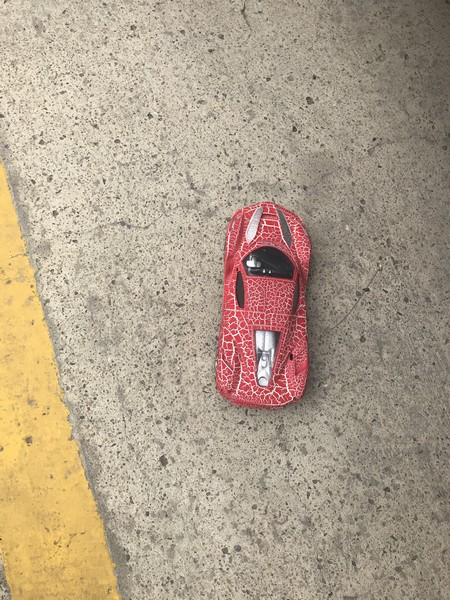RC: (214, 202, 316, 410)
